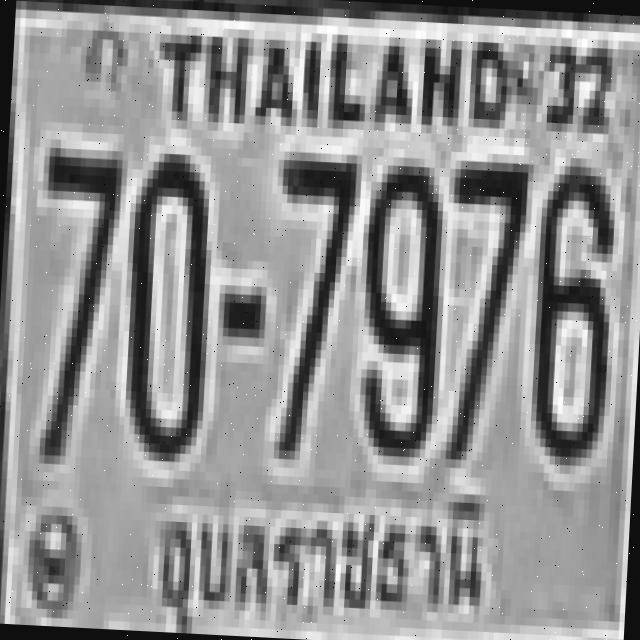0: (118, 143, 212, 454)
6: (524, 156, 612, 458)
7: (30, 139, 119, 458), (264, 147, 358, 449), (438, 152, 527, 462), (443, 152, 527, 368)
9: (352, 156, 446, 450)
UbonRatchathani: (144, 469, 501, 640)
